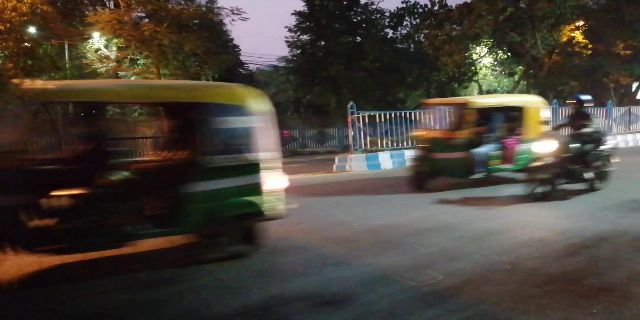Autorickshaw: (12, 76, 291, 255), (406, 89, 548, 183)
Motorbike: (538, 128, 614, 190)
